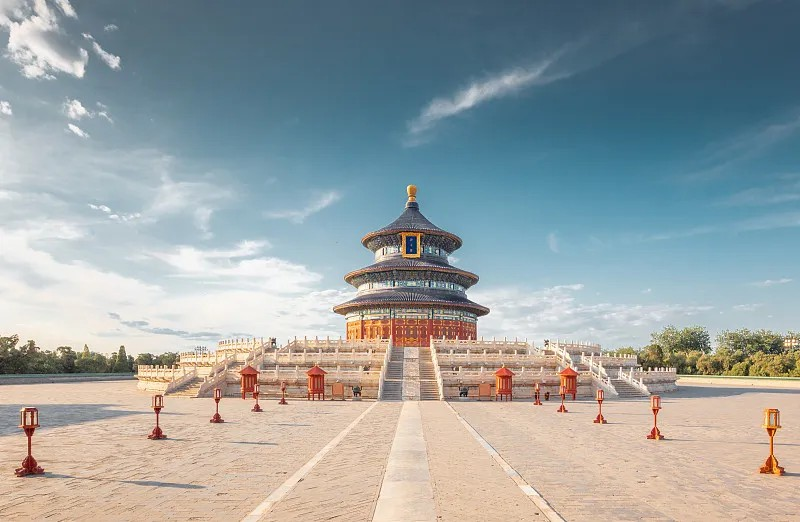Heaven: (333, 184, 490, 346)
